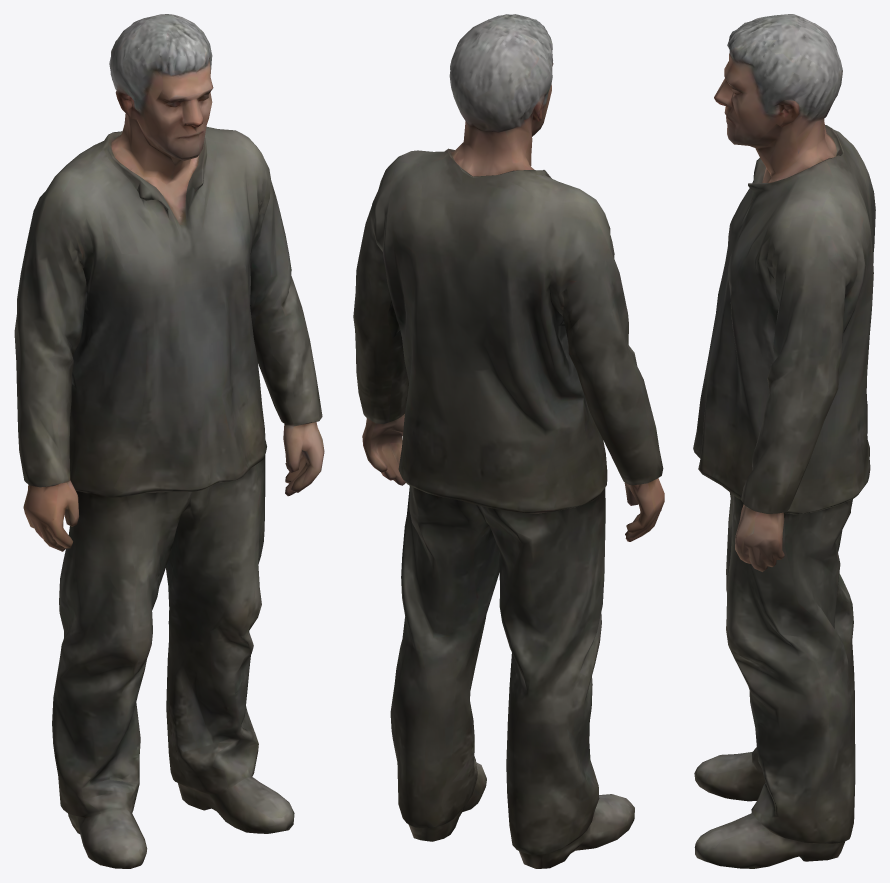
The model's file is figure_villager_m-CFJkgEe_.glb.
The picture shows the model from 3 angles, left to right: view 1: azimuth 30°, elevation 25°; view 2: azimuth 150°, elevation 25°; view 3: azimuth 270°, elevation 25°; orthographic projection.
Parts seen in each view (by area): view 1: geom0; view 2: geom0; view 3: geom0.
Boxes of the visible parts, x1,y1,x2,y2 form: geom0: [14, 14, 324, 868]; geom0: [353, 14, 664, 868]; geom0: [693, 14, 875, 868].
Size of the model in its own units: 0.3805 by 1 by 0.2052.
1 material, 1 textured.
